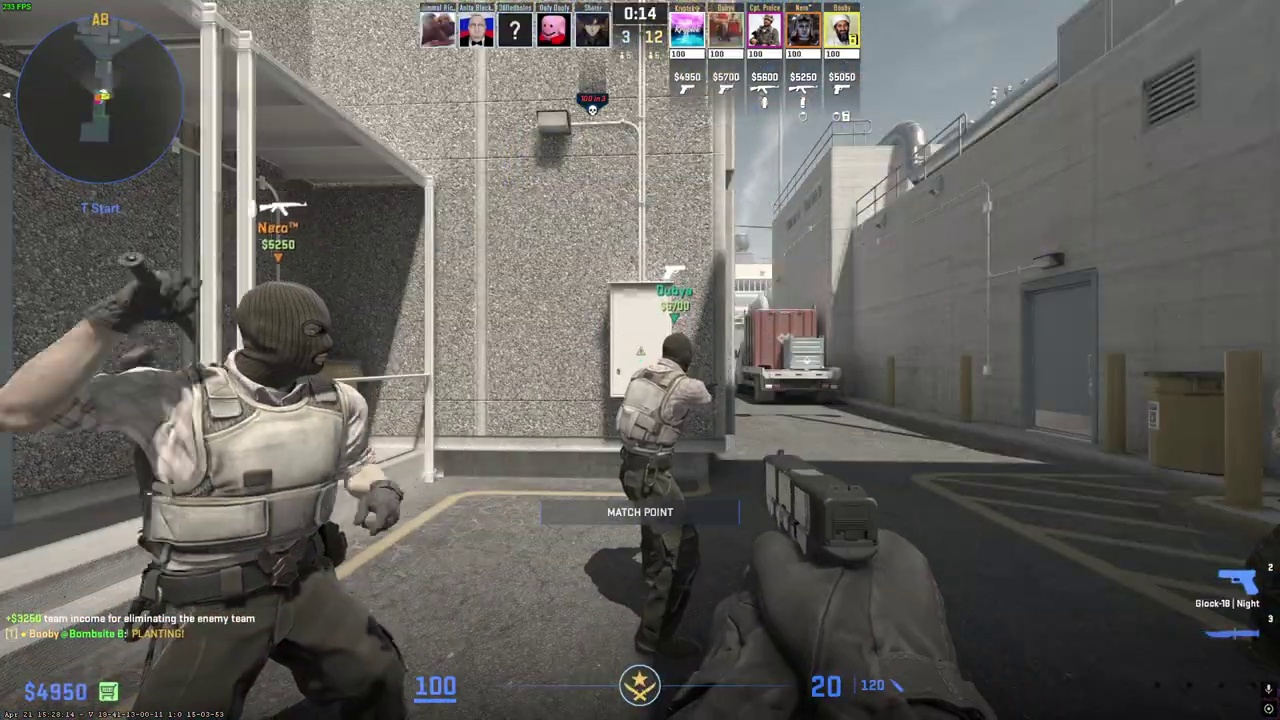Terrorist: (122, 281, 410, 720), (616, 332, 713, 662)
